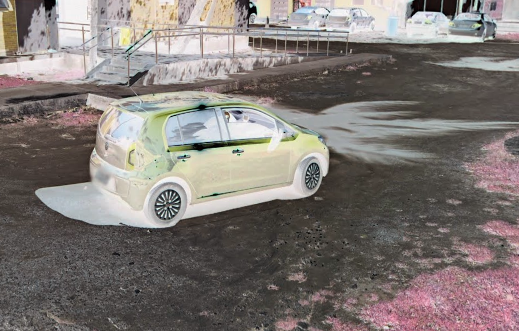car: (86, 84, 332, 228)
